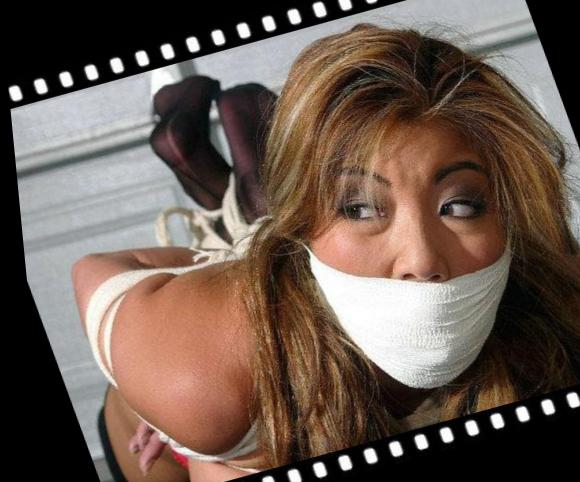WRONG: (273, 146, 554, 407)
